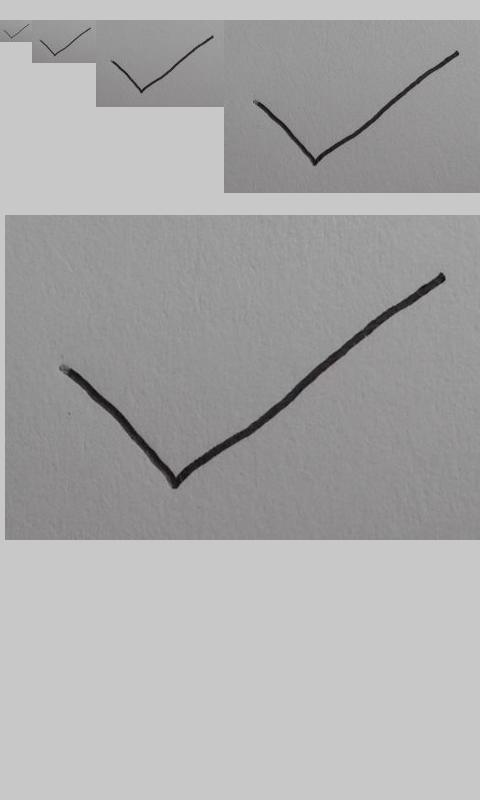check_box: (63, 273, 445, 492), (254, 51, 460, 166), (111, 35, 213, 93), (40, 28, 91, 56), (4, 24, 29, 39)
